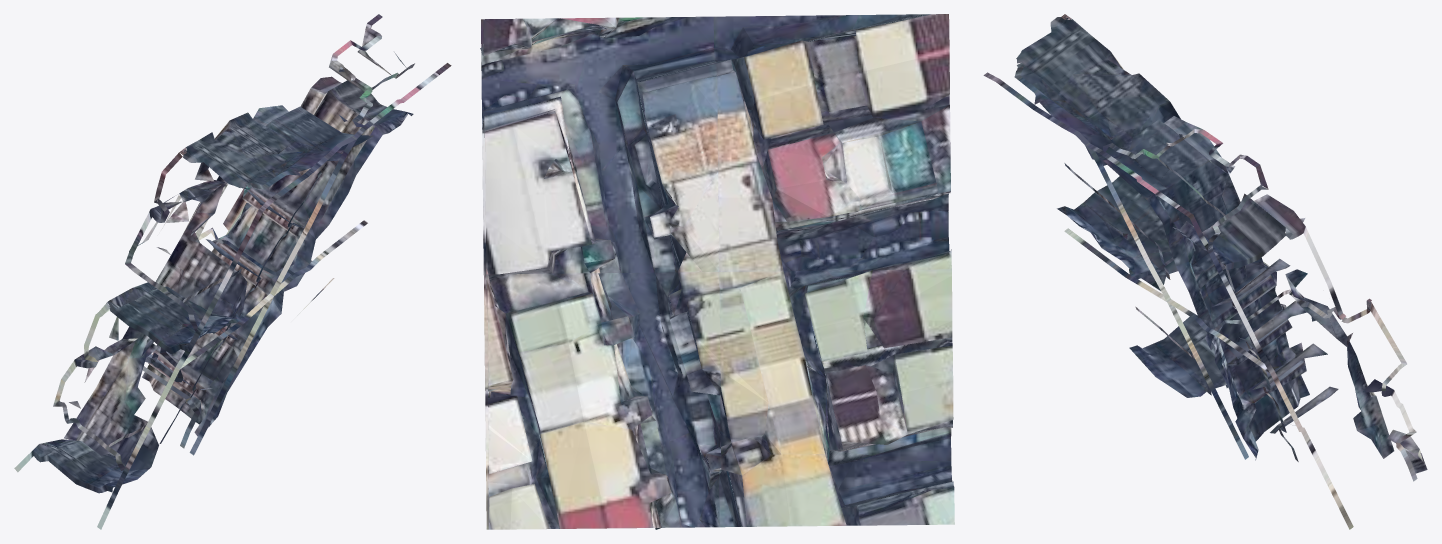
The picture shows the model from 3 angles, left to right: view 1: azimuth 30°, elevation 25°; view 2: azimuth 150°, elevation 25°; view 3: azimuth 270°, elevation 25°; orthographic projection. The views are drawn at different scales.
Size of the model in its own units: 85.16 by 76.69 by 78.04.
1 material, 1 textured.
